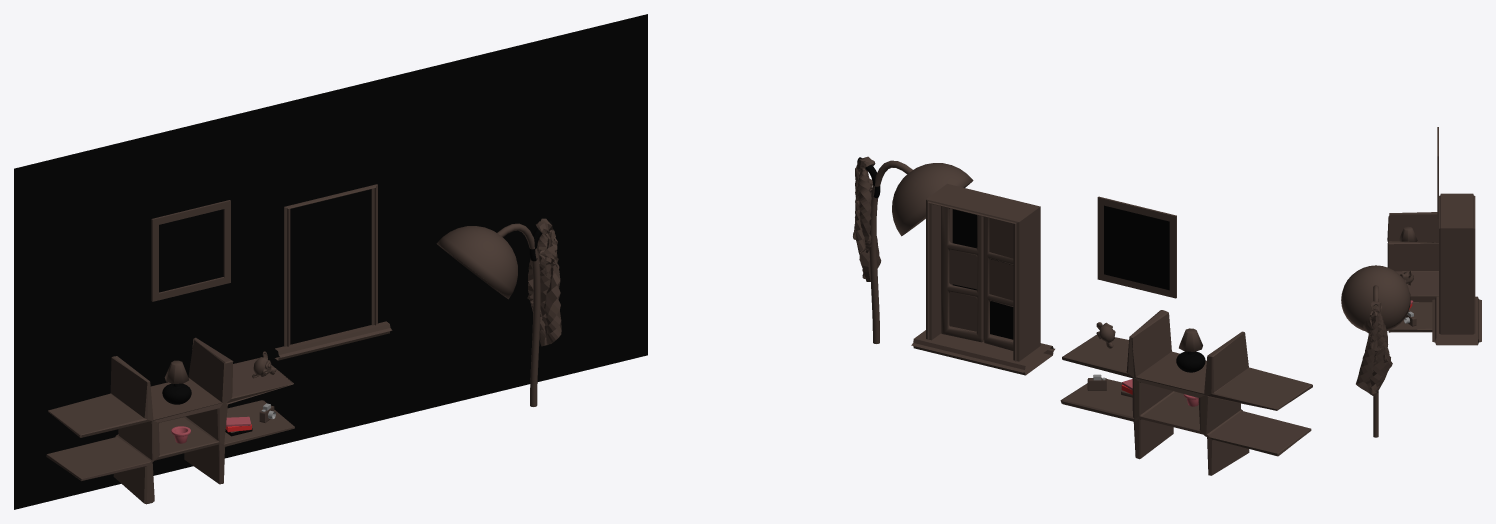
The model's file is window_joined.fbx.
3 renders of one model, left to right at view 1: azimuth 30°, elevation 25°; view 2: azimuth 150°, elevation 25°; view 3: azimuth 270°, elevation 25°, orthographic. The views are drawn at different scales.
Visible parts, largest first — view 1: FRAME; view 2: FRAME; view 3: FRAME.
Part boxes in pixels (<box>): FRAME: <box>14,14,647,509</box>; FRAME: <box>853,156,1312,475</box>; FRAME: <box>1341,127,1481,437</box>.
Size of the model in its own units: 1616 by 831 by 408.
